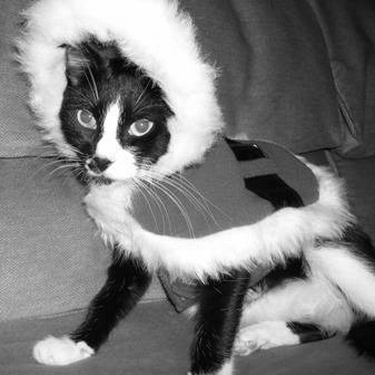cat: (4, 5, 370, 369)
